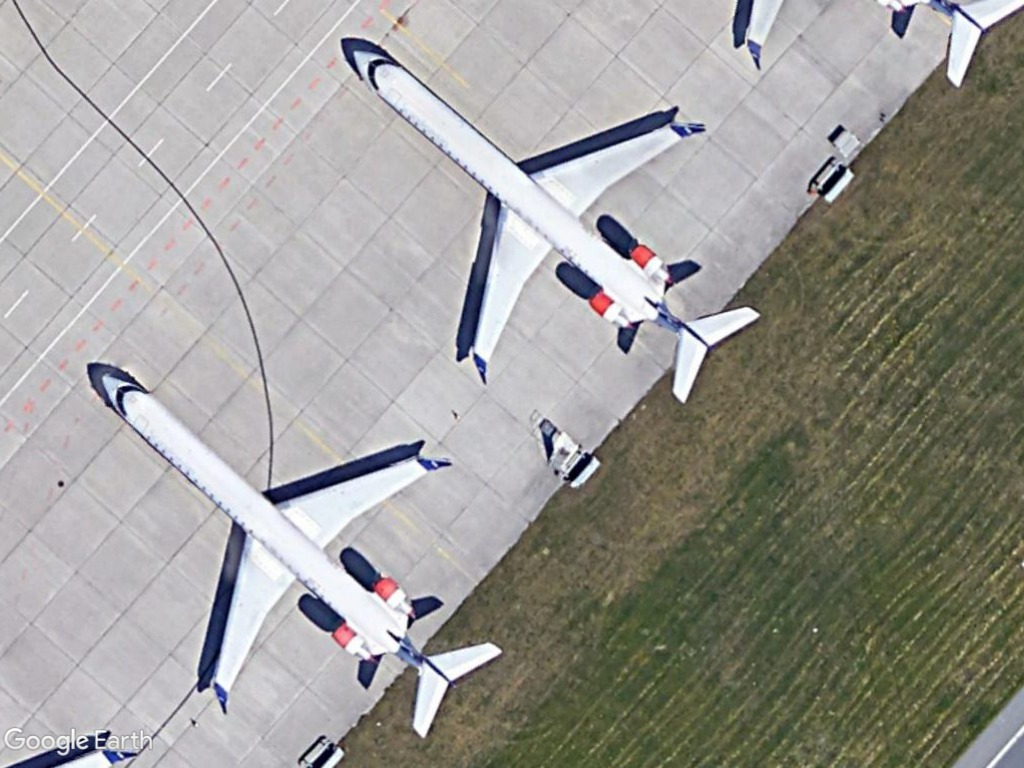chartered: (335, 37, 767, 418), (93, 365, 506, 747)
